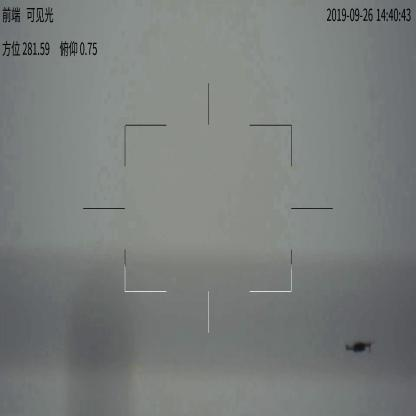uav: (340, 334, 376, 353)
